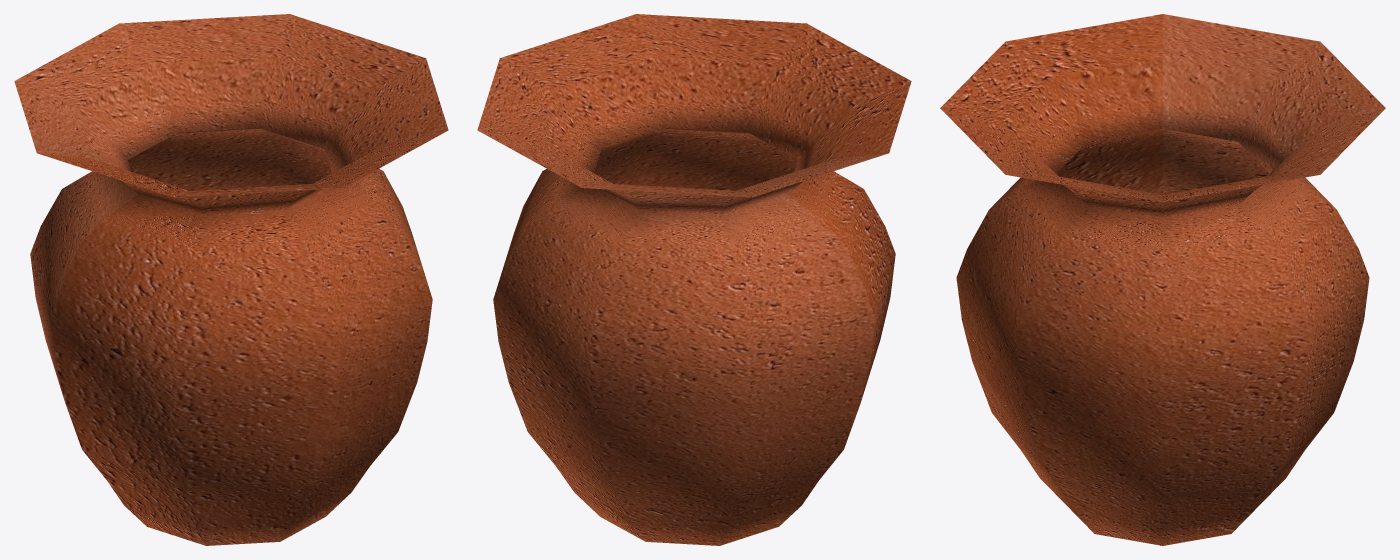
The model's file is Pottery.fbx.
The picture shows the model from 3 angles, left to right: view 1: azimuth 30°, elevation 25°; view 2: azimuth 150°, elevation 25°; view 3: azimuth 270°, elevation 25°; orthographic projection.
Parts seen in each view (by area): view 1: Cylinder.001; view 2: Cylinder.001; view 3: Cylinder.001.
Part boxes in pixels (<box>): Cylinder.001: <box>14,14,448,545</box>; Cylinder.001: <box>477,14,911,545</box>; Cylinder.001: <box>940,14,1385,545</box>.
Bounding box in the file's own units: 133 × 131 × 133.
